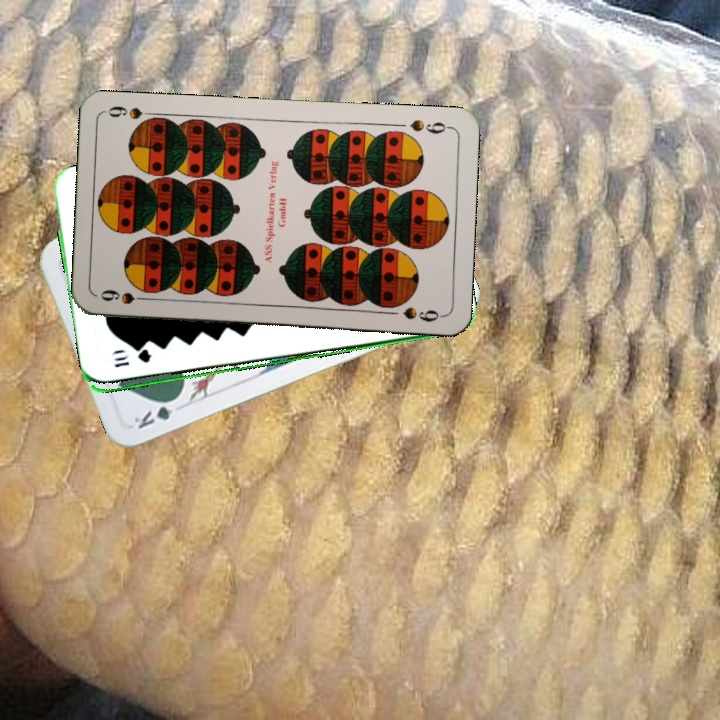G10: (110, 349, 155, 370)
GK: (130, 393, 182, 432)
S9: (96, 285, 155, 307), (406, 115, 453, 136)
